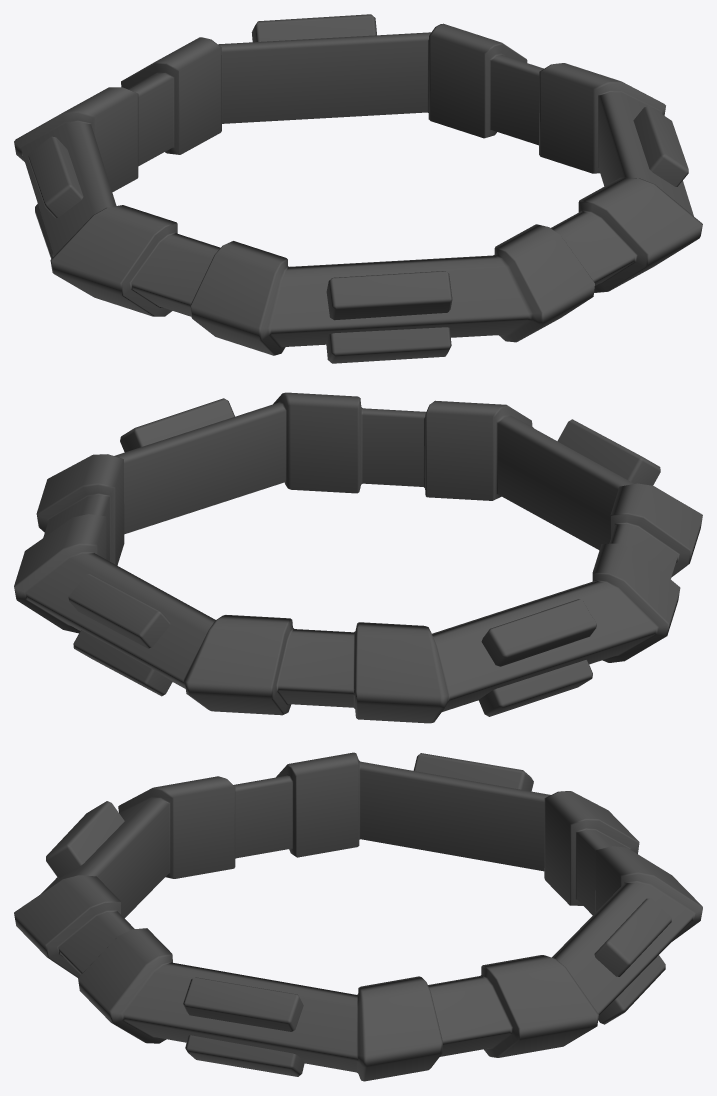
Rendered from _Orbital_structure_02.fbx.
3 renders of one model, top to bottom at view 1: azimuth 30°, elevation 25°; view 2: azimuth 150°, elevation 25°; view 3: azimuth 270°, elevation 25°, orthographic. The views are drawn at different scales.
Visible parts, largest first — view 1: Orbital_structure_02; view 2: Orbital_structure_02; view 3: Orbital_structure_02.
Part boxes in pixels (x1,y1,x2,y2): Orbital_structure_02: (14, 14, 702, 363); Orbital_structure_02: (14, 392, 702, 723); Orbital_structure_02: (14, 752, 702, 1081).
Bounding box in the file's own units: 4602 × 645 × 4603.
Materials: 1 (1 with a texture image).
